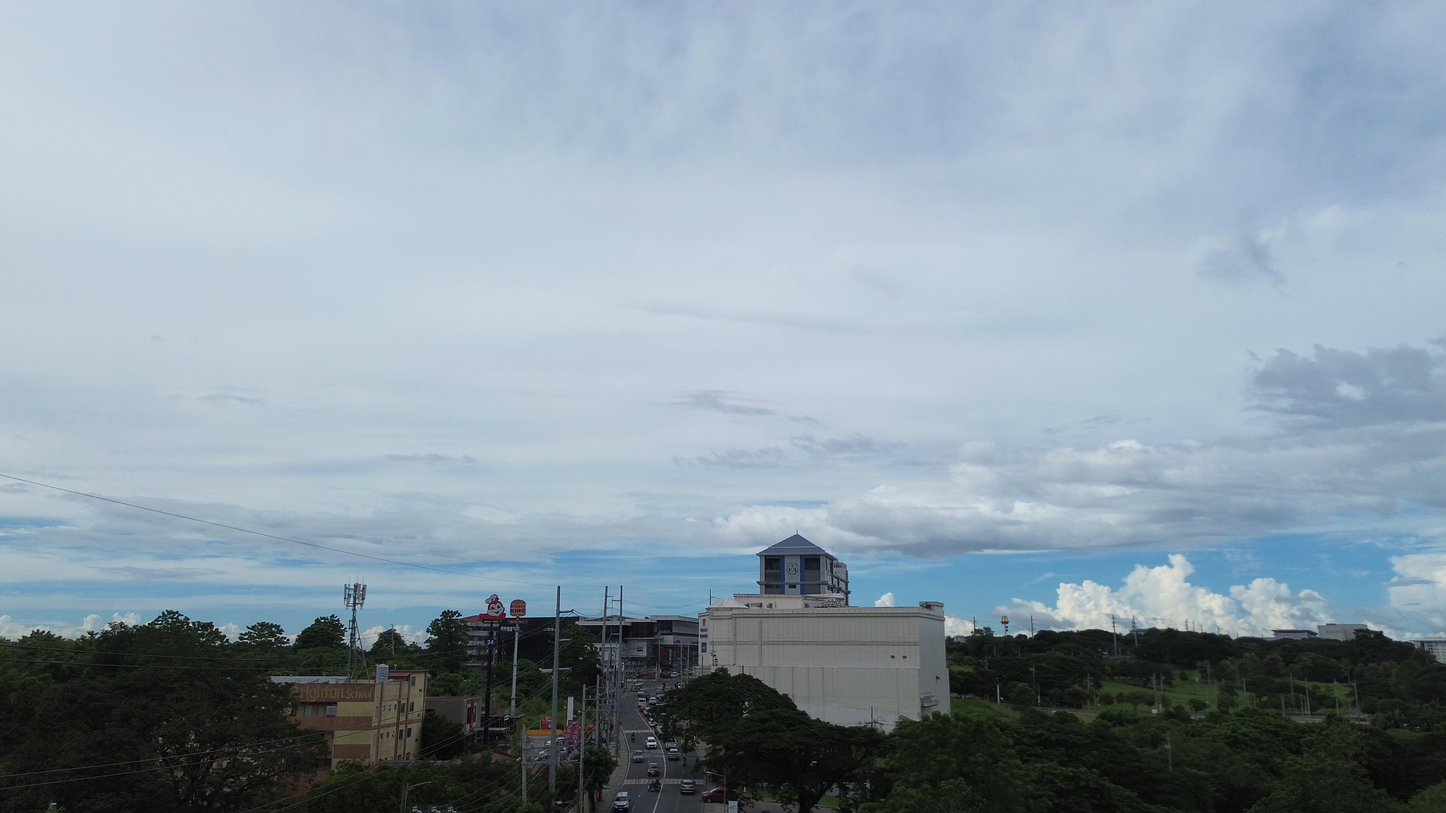car: (700, 787, 726, 802), (612, 791, 631, 811), (679, 779, 696, 794), (645, 735, 659, 749), (646, 763, 660, 776), (631, 750, 644, 763)
vehicle: (666, 748, 680, 760)
